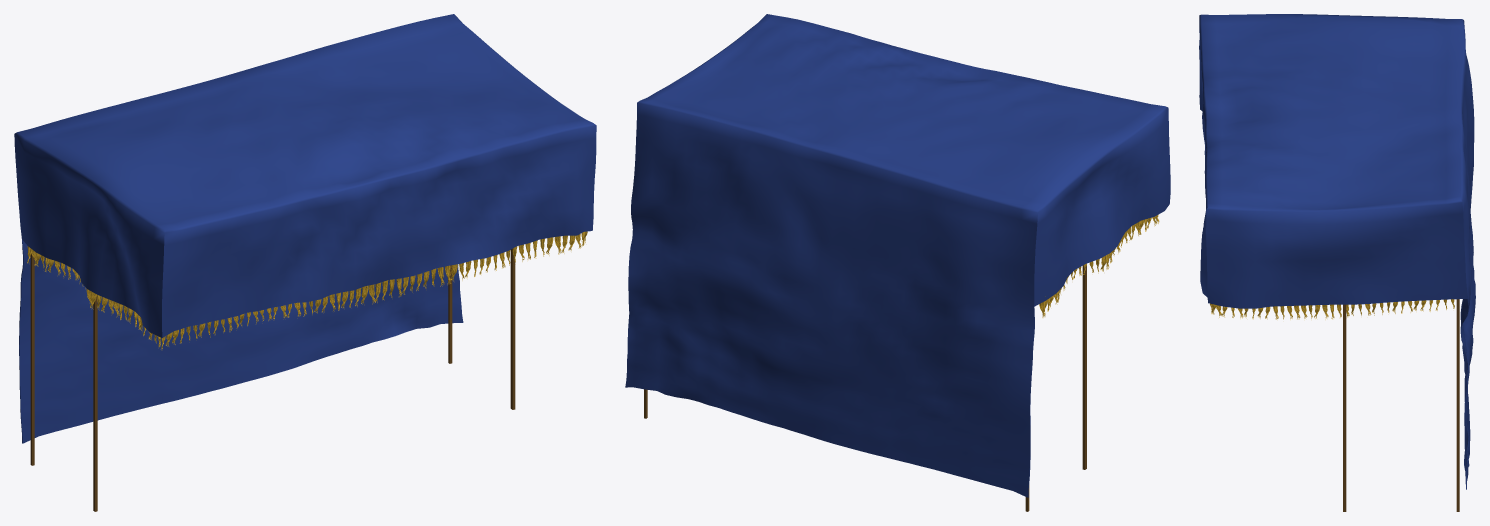
The model's file is paraeta1.fbx.
3 views of the same model, side by side, from view 1: azimuth 30°, elevation 25°; view 2: azimuth 150°, elevation 25°; view 3: azimuth 270°, elevation 25° (orthographic). The views are drawn at different scales.
Visible parts, largest first — view 1: paraeta1|paraeta1.001_L_scene.blend|Dupli|2, paraeta1|Plane.005_L_scene.blend|Dupli|, paraeta1|Cube.002_L_scene.blend|Dupli|1; view 2: paraeta1|paraeta1.001_L_scene.blend|Dupli|2, paraeta1|Cube.002_L_scene.blend|Dupli|1, paraeta1|Plane.005_L_scene.blend|Dupli|; view 3: paraeta1|paraeta1.001_L_scene.blend|Dupli|2, paraeta1|Cube.002_L_scene.blend|Dupli|1, paraeta1|Plane.005_L_scene.blend|Dupli|.
Part boxes in pixels (x1,y1,x2,y2): paraeta1|paraeta1.001_L_scene.blend|Dupli|2: [14, 14, 596, 443]; paraeta1|Plane.005_L_scene.blend|Dupli|: [27, 231, 587, 349]; paraeta1|Cube.002_L_scene.blend|Dupli|1: [30, 249, 515, 511]; paraeta1|paraeta1.001_L_scene.blend|Dupli|2: [625, 14, 1170, 497]; paraeta1|Cube.002_L_scene.blend|Dupli|1: [644, 265, 1086, 511]; paraeta1|Plane.005_L_scene.blend|Dupli|: [1039, 214, 1159, 317]; paraeta1|paraeta1.001_L_scene.blend|Dupli|2: [1199, 14, 1475, 489]; paraeta1|Cube.002_L_scene.blend|Dupli|1: [1343, 299, 1459, 511]; paraeta1|Plane.005_L_scene.blend|Dupli|: [1210, 299, 1454, 319].
Size of the model in its own units: 593 by 434 by 347.
